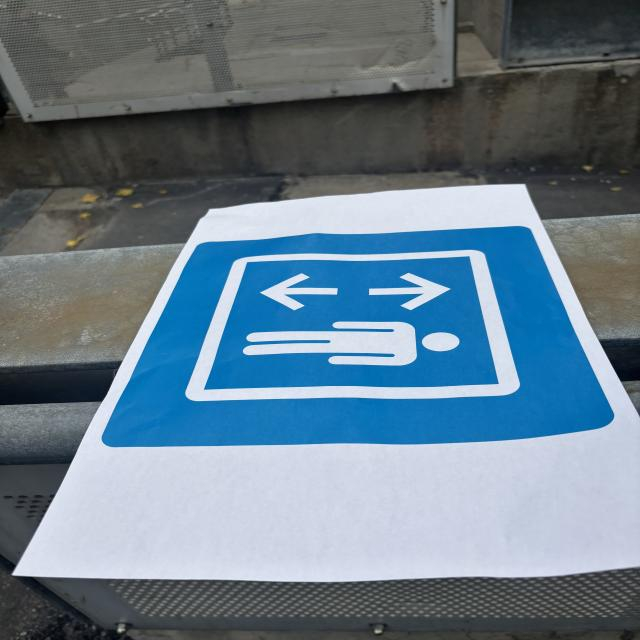elevator: (105, 225, 613, 448)
